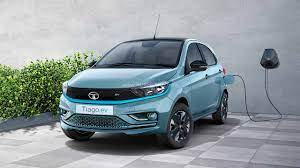Tiago: (55, 34, 232, 151)
